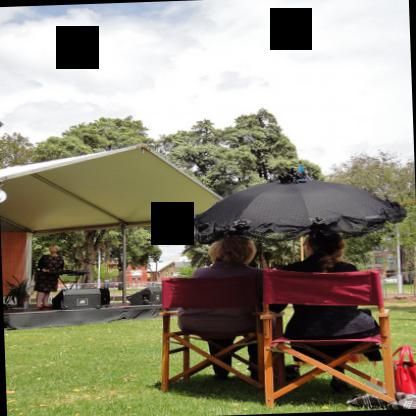handbag: (392, 344, 416, 395)
